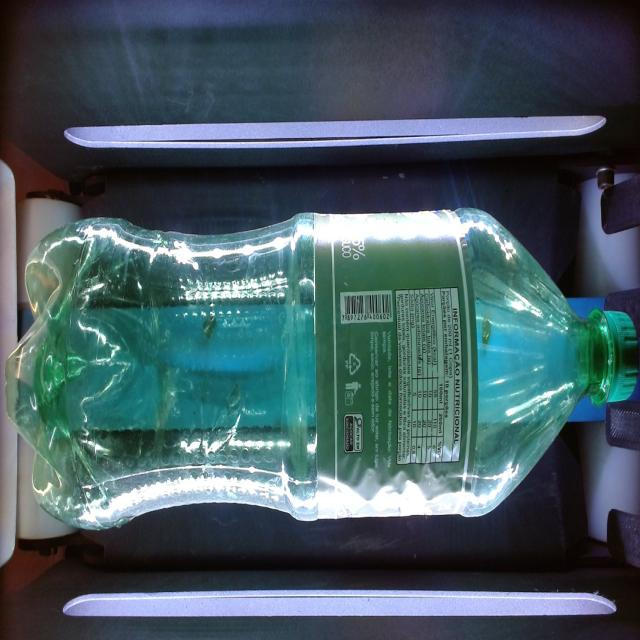bottom: (3, 204, 103, 532)
cap: (577, 283, 640, 415)
code: (337, 286, 396, 330)
